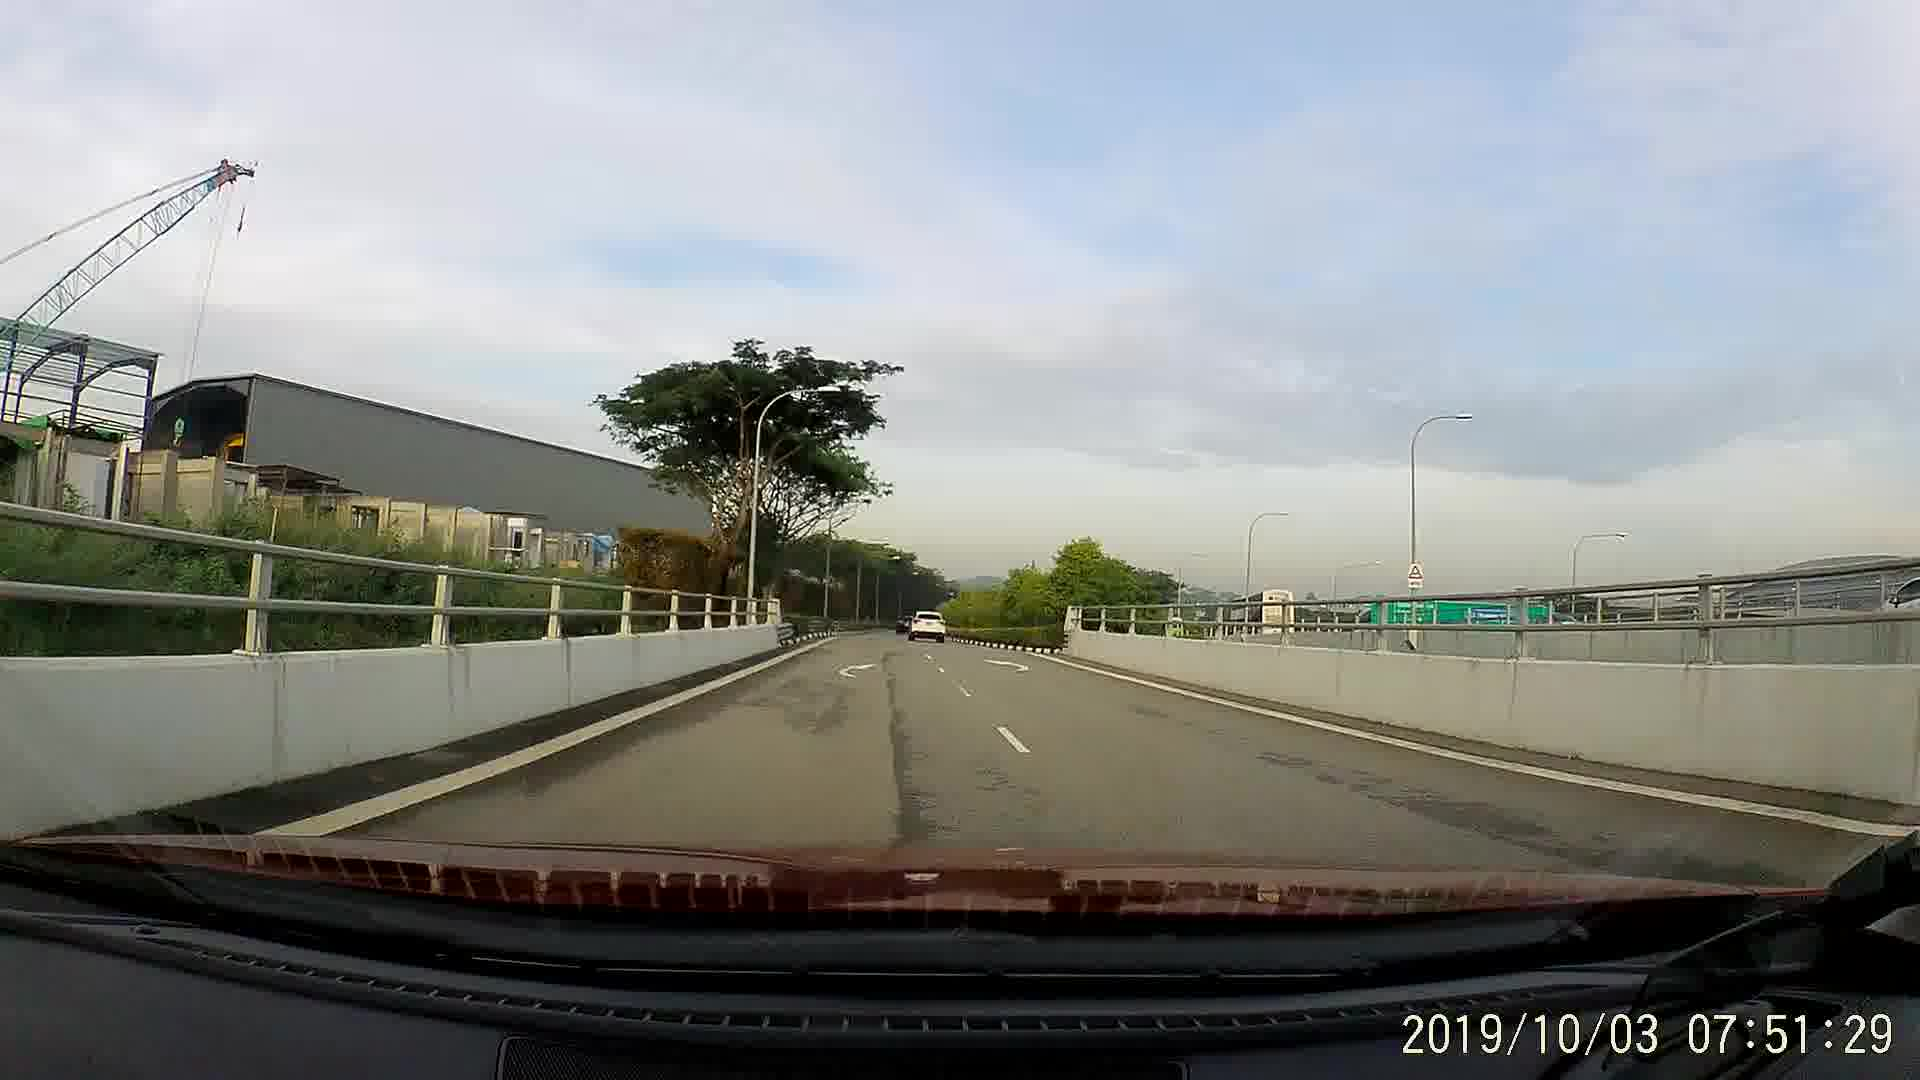bus: (1229, 593, 1294, 632)
car: (909, 607, 949, 642), (895, 615, 913, 632)
